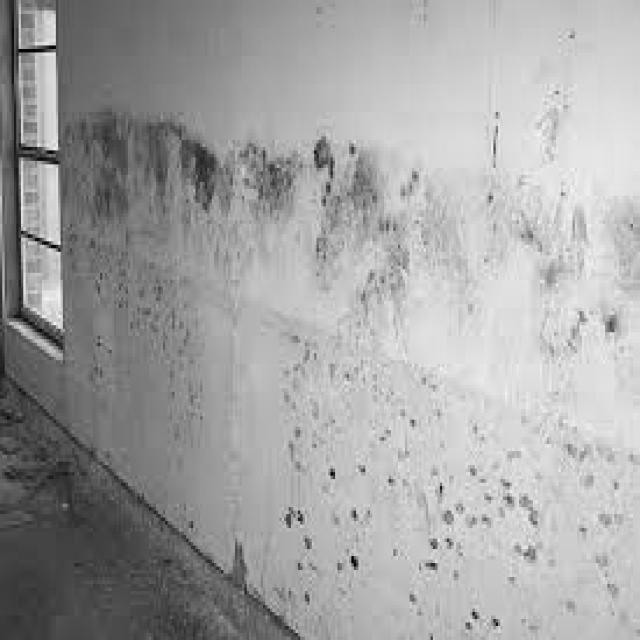stain marks: (207, 136, 633, 346), (382, 402, 638, 637), (61, 108, 202, 427), (277, 350, 368, 620), (524, 27, 600, 132), (300, 4, 354, 56), (224, 528, 252, 588)
